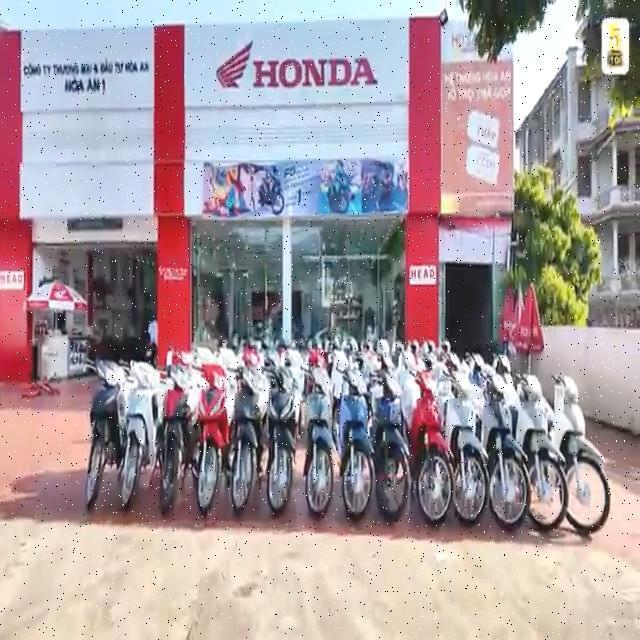motorcycle: (548, 372, 620, 539), (510, 368, 569, 536), (478, 366, 530, 528), (366, 368, 412, 526), (442, 371, 487, 528), (332, 366, 376, 526), (120, 345, 160, 520), (408, 372, 452, 524), (78, 345, 116, 520), (255, 364, 297, 518), (190, 354, 227, 513), (227, 362, 264, 516), (302, 364, 338, 522), (166, 345, 190, 520)
